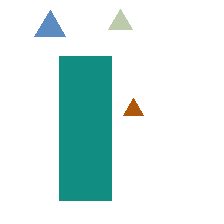rectangle: (59, 56, 111, 200)
triangle: (34, 10, 65, 36), (108, 9, 132, 29), (123, 98, 143, 115)
